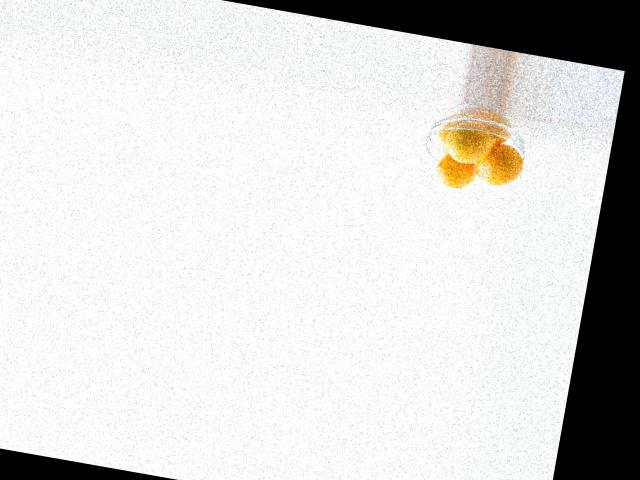lemon: (470, 146, 527, 190)
